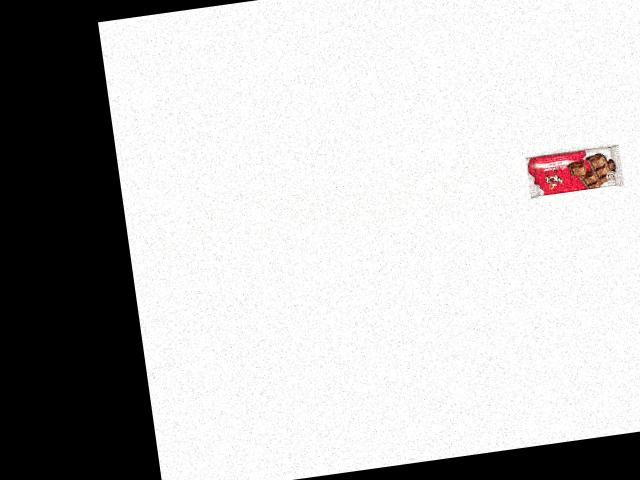chocolate: (521, 136, 626, 201)
